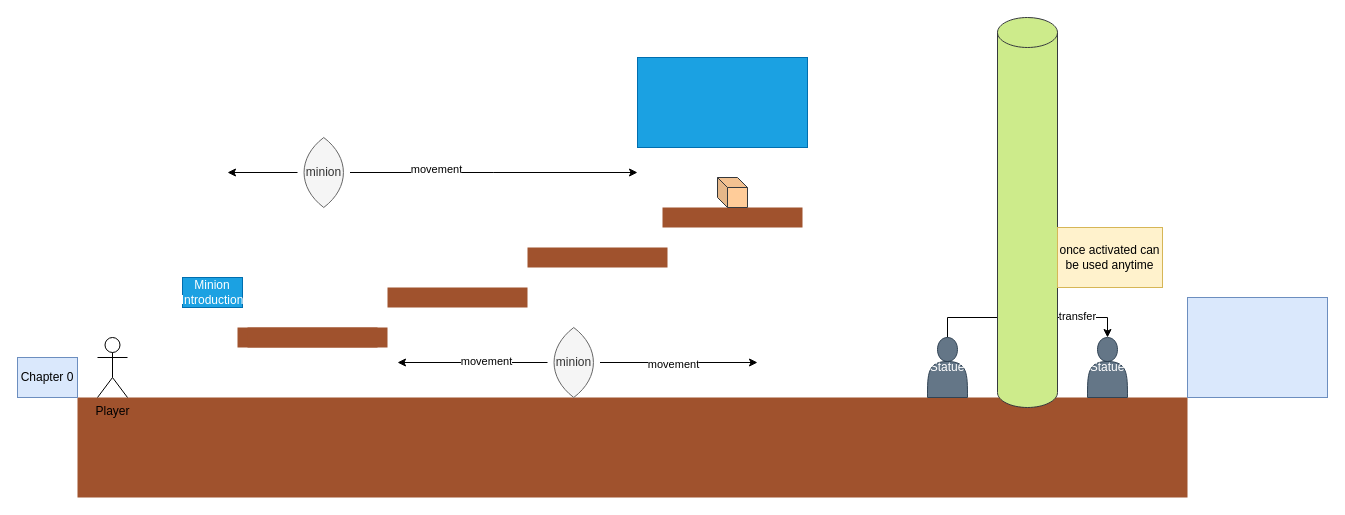
Some shapes in this 1345 by 515 pixel diagram are drawn without their labels. The shapes that lost their labels are listed below. From the top down, each one's centre as x and y in pixels, then its label:
(x=722, y=102): Statue & Offerings Itroduction
(x=732, y=192): offer
(x=1027, y=212): Tree
(x=1257, y=347): Proceed on the 1st tribe
